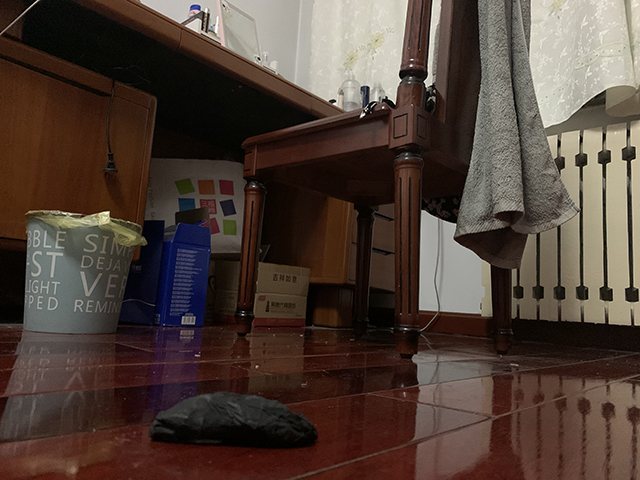feces: (148, 390, 321, 450)
stool: (232, 1, 513, 360)
table: (1, 1, 395, 329)
trashcan: (21, 209, 144, 335)
wire: (418, 216, 441, 333)
